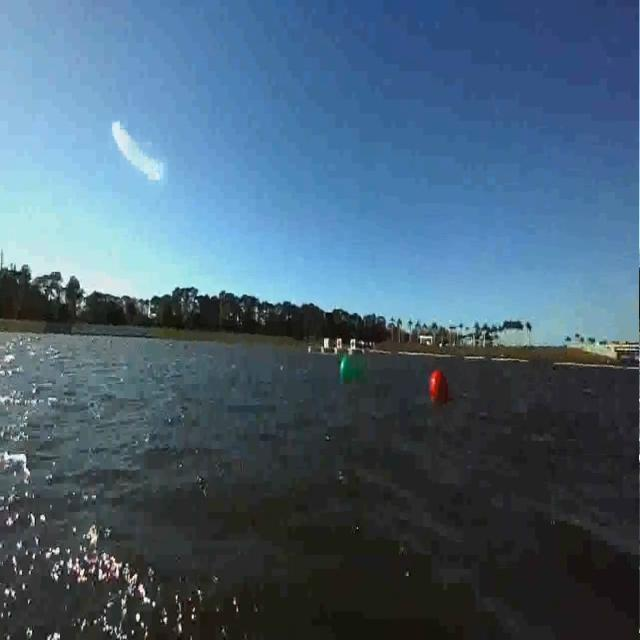green-buoy: (334, 347, 370, 395)
red-buoy: (429, 367, 448, 407)
